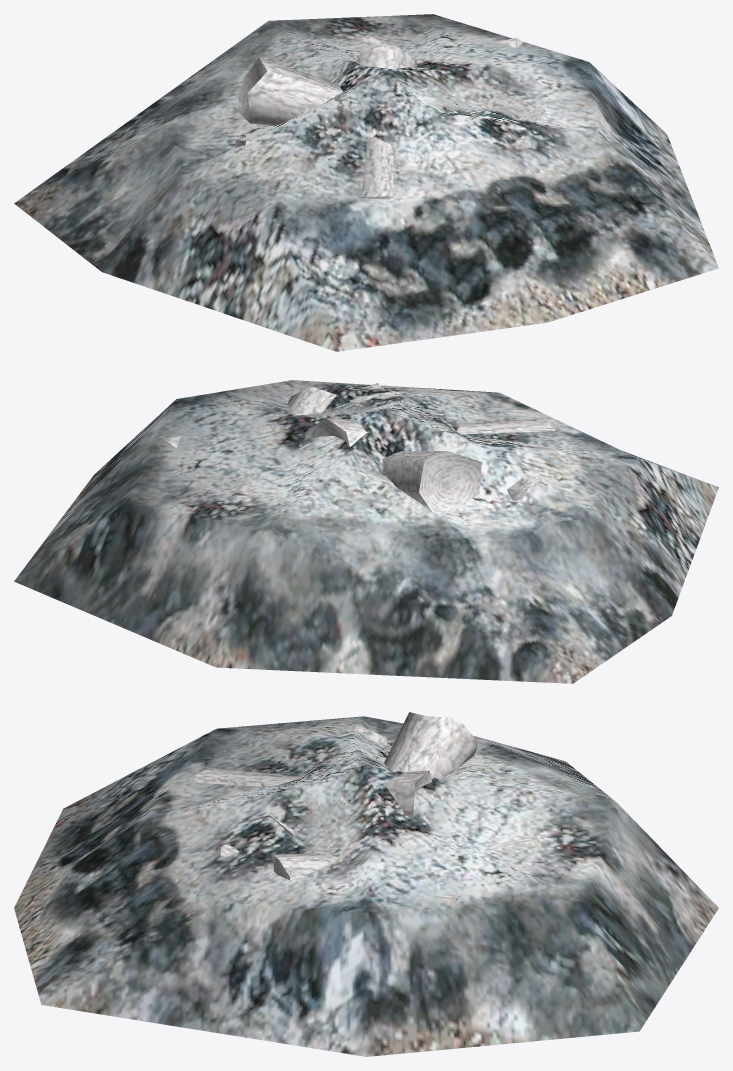
The model's file is eqp_camping_log_ash_l0.fbx.
The picture shows the model from 3 angles, top to bottom: view 1: azimuth 30°, elevation 25°; view 2: azimuth 150°, elevation 25°; view 3: azimuth 270°, elevation 25°; orthographic projection. The views are drawn at different scales.
Visible parts, largest first — view 1: mesh_node; view 2: mesh_node; view 3: mesh_node.
Boxes of the visible parts, <box> form: mesh_node: <box>14,14,718,351</box>; mesh_node: <box>14,380,718,683</box>; mesh_node: <box>14,712,718,1056</box>.
Size of the model in its own units: 1.11 by 0.2555 by 1.11.
2 materials, 2 textured.
